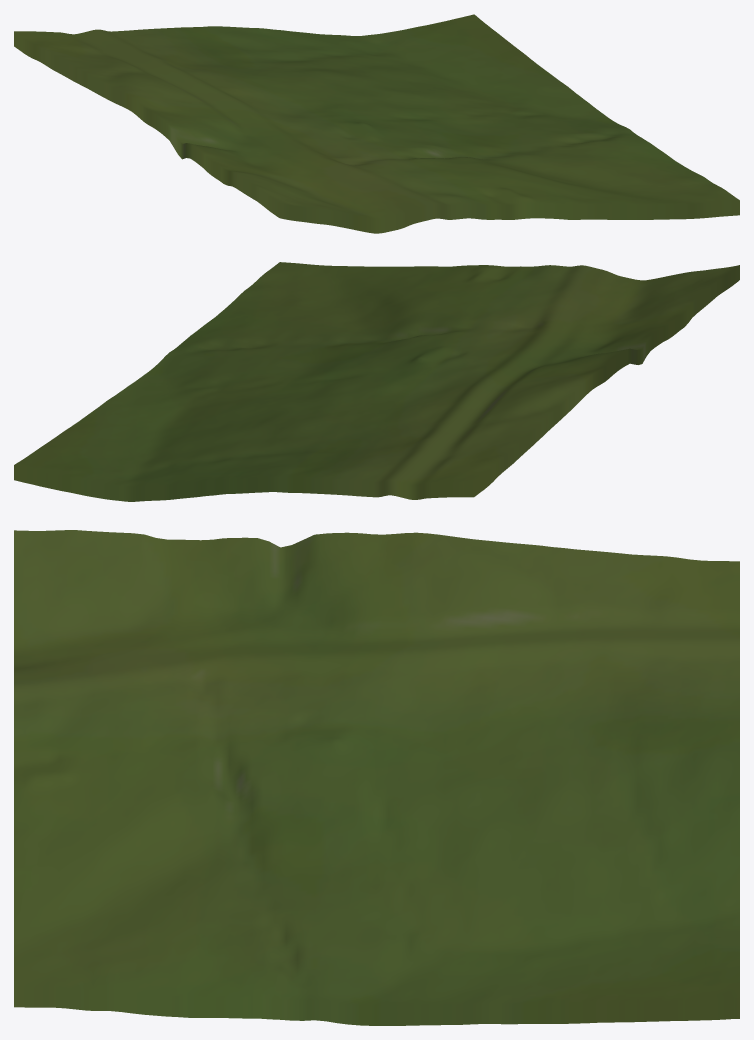
Rendered from terrain_8_-14.glb.
3 renders of one model, top to bottom at view 1: azimuth 30°, elevation 25°; view 2: azimuth 150°, elevation 25°; view 3: azimuth 270°, elevation 25°, orthographic. The views are drawn at different scales.
Parts seen in each view (by area): view 1: terrain_8_-14; view 2: terrain_8_-14; view 3: terrain_8_-14.
Boxes of the visible parts, x1=… form: terrain_8_-14: x1=14, y1=14, x2=739, y2=233; terrain_8_-14: x1=14, y1=262, x2=739, y2=501; terrain_8_-14: x1=14, y1=530, x2=739, y2=1025.
Bounding box in the file's own units: 256 × 73.55 × 256.
